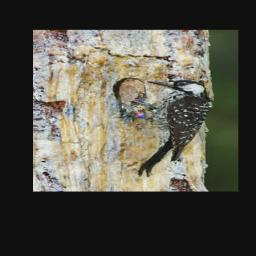Woodpecker: (121, 80, 211, 176)
